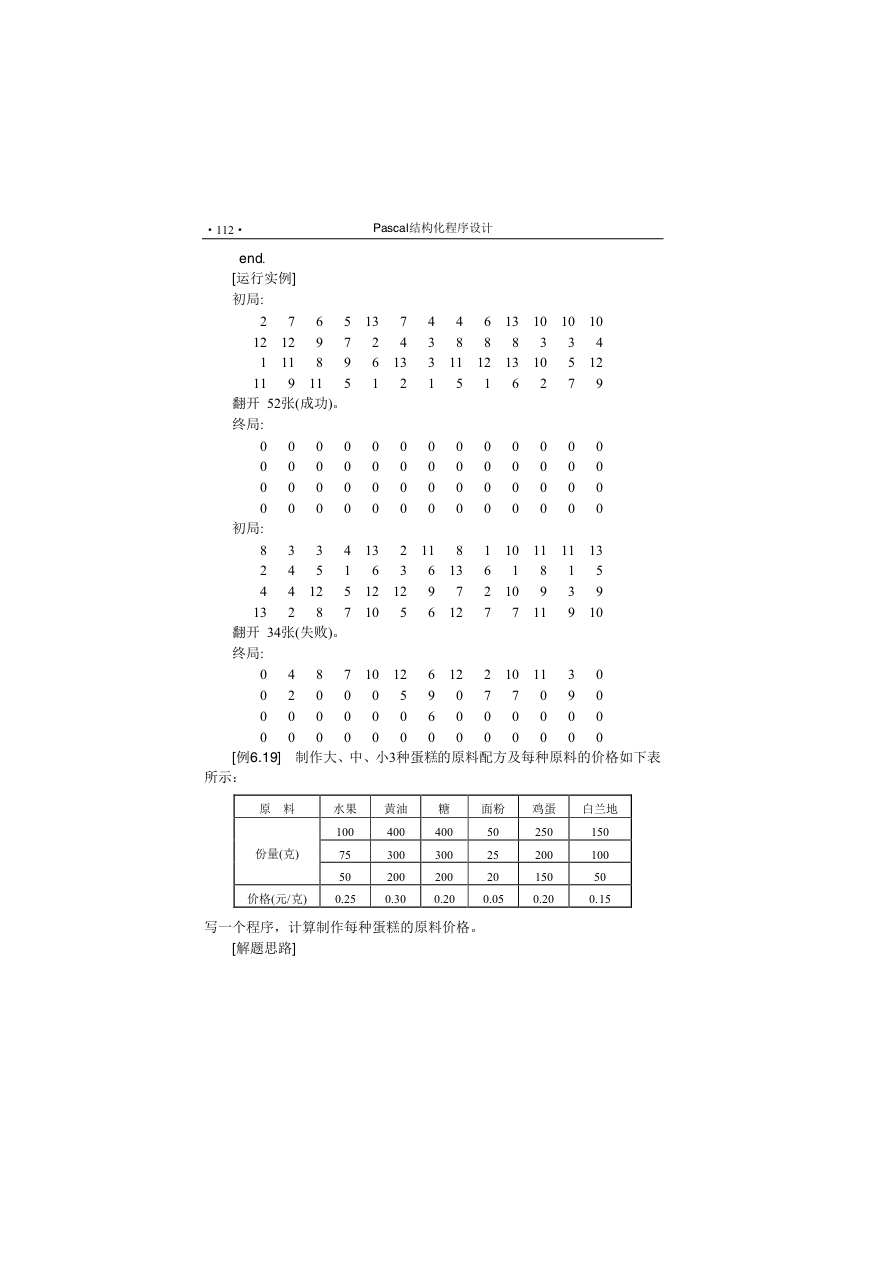table: (233, 794, 632, 907)
